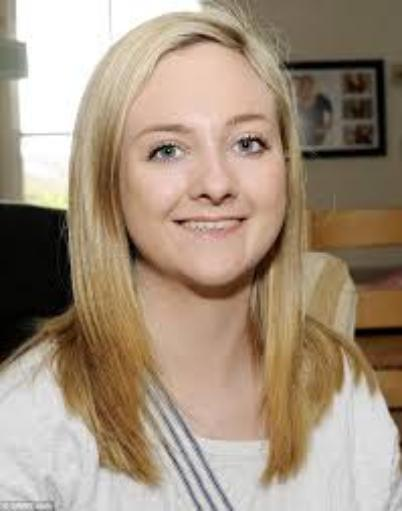left_eye: (230, 136, 274, 160)
left_lip_corner: (239, 213, 254, 229)
right_eye: (145, 141, 192, 166)
right_lip_corner: (168, 213, 187, 232)
